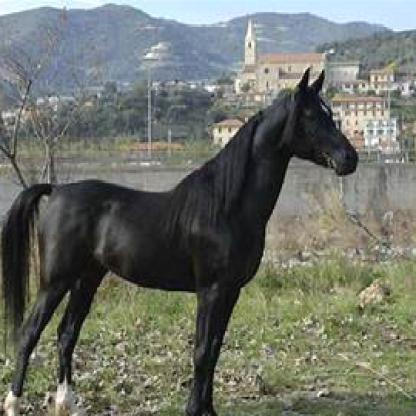horse: (0, 66, 361, 414)
